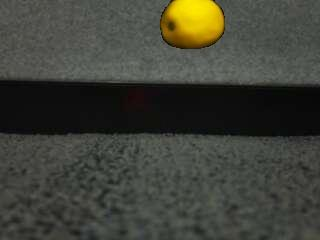Lemon: (158, 0, 226, 51)
